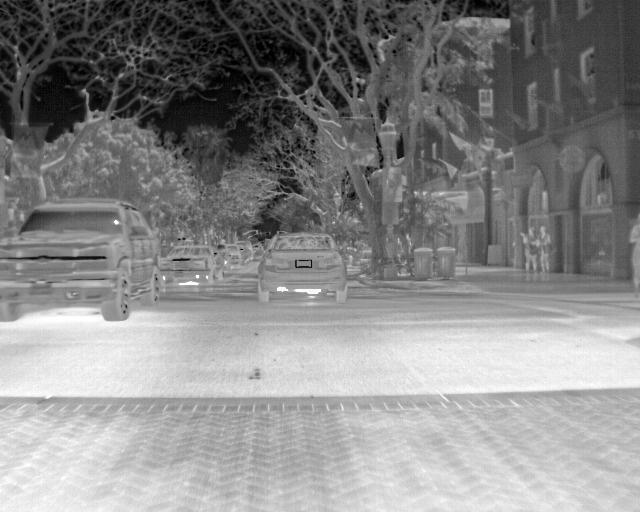bicycle: (1, 195, 159, 321), (253, 228, 348, 303), (152, 258, 216, 298), (162, 244, 222, 284), (222, 243, 242, 267)
empty: (533, 225, 554, 273), (522, 223, 540, 273), (628, 221, 639, 295)
